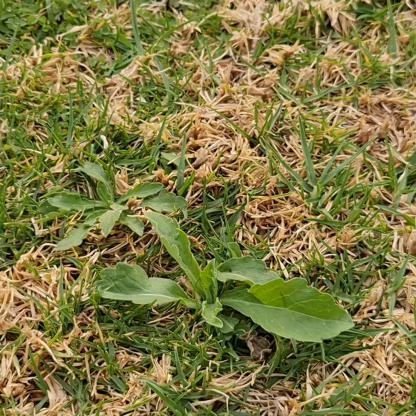Weeds: (92, 209, 356, 342), (32, 161, 187, 251)
